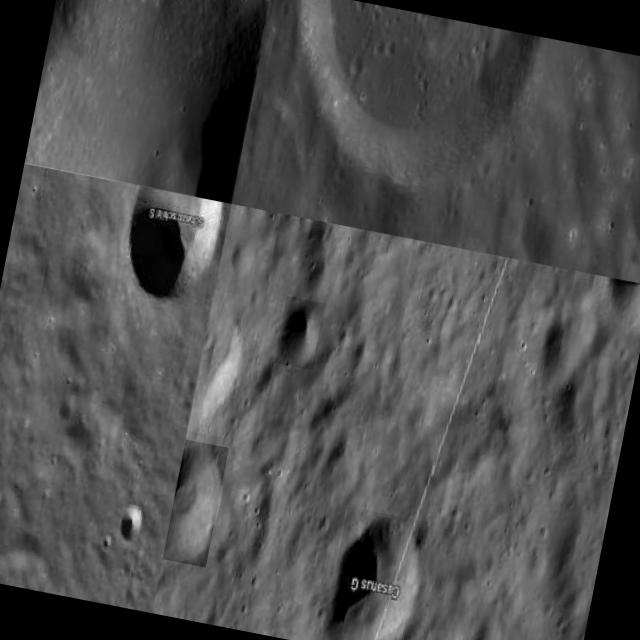crater: (255, 0, 546, 202), (25, 0, 272, 202), (321, 507, 429, 640), (114, 185, 225, 310), (187, 290, 250, 438), (162, 440, 229, 568), (274, 296, 326, 371), (116, 502, 144, 542)
